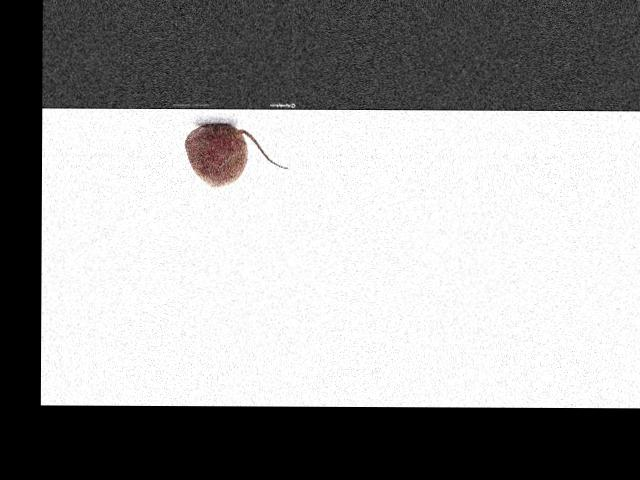beet: (184, 123, 288, 186)
